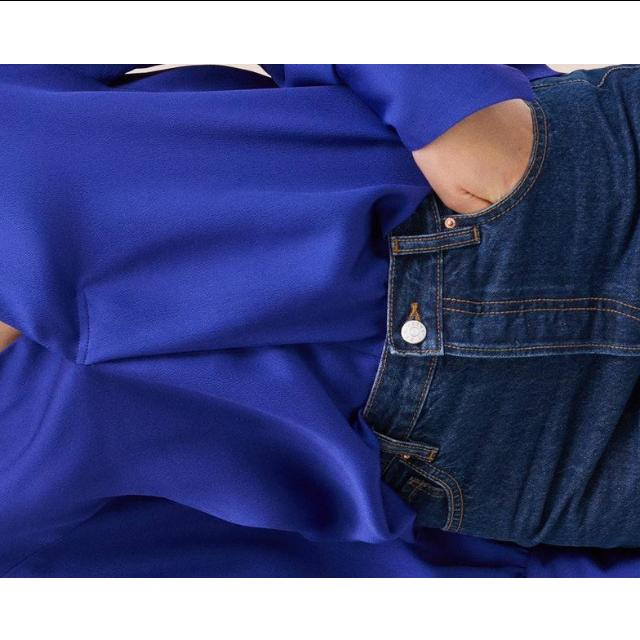polyester: (1, 63, 392, 577)
